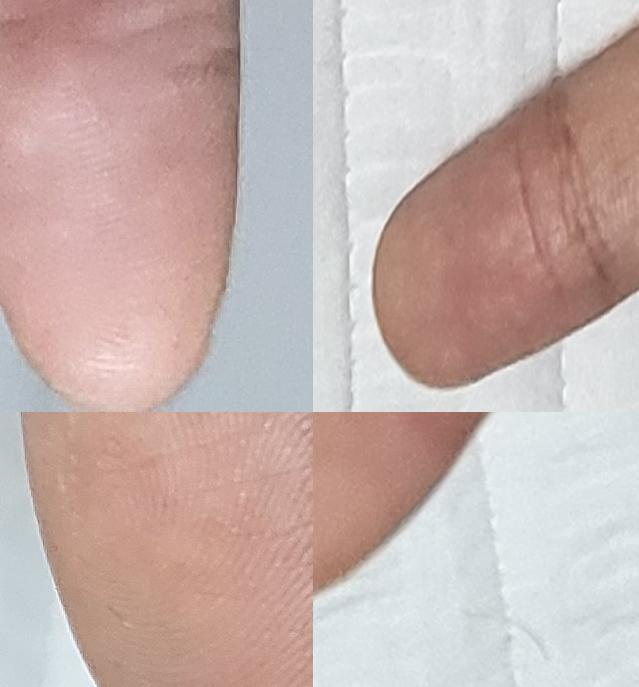Fingerprints: (0, 1, 241, 412), (19, 412, 313, 687), (371, 85, 622, 391), (313, 412, 488, 593)
